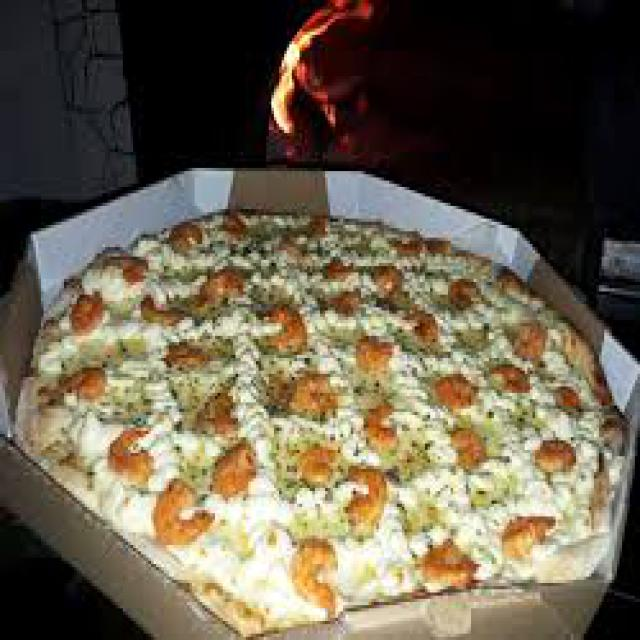camarao: (285, 534, 341, 618), (153, 480, 216, 549), (413, 536, 482, 596), (347, 456, 390, 544), (267, 304, 307, 363), (109, 426, 151, 482), (364, 399, 403, 456)
pizza: (18, 202, 623, 606)
